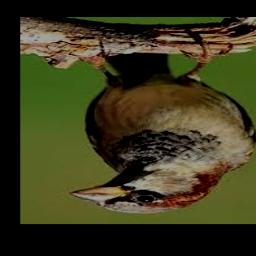Sparrow: (69, 38, 256, 213)
